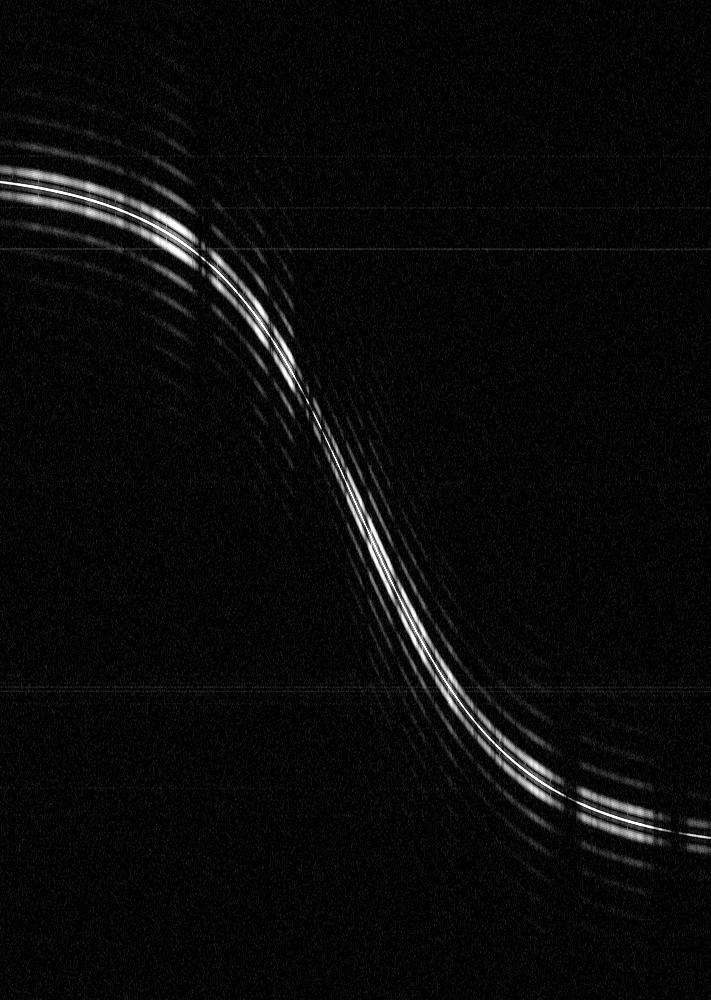signal: (0, 0, 710, 999)
